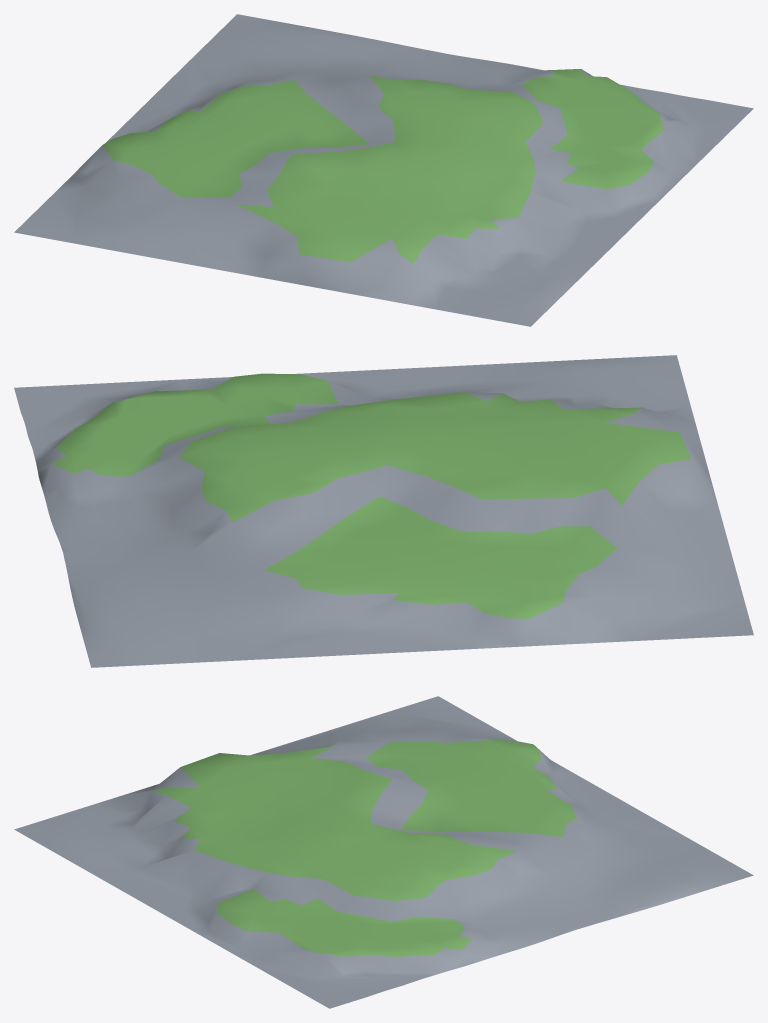
File: SM_Cliffs_17.obj
3 views of the same model, one above another, from view 1: azimuth 30°, elevation 25°; view 2: azimuth 150°, elevation 25°; view 3: azimuth 270°, elevation 25° (orthographic). The views are drawn at different scales.
Visible parts, largest first — view 1: SM_Cliffs_17; view 2: SM_Cliffs_17; view 3: SM_Cliffs_17.
Boxes of the visible parts, x1,y1,x2,y2 form: SM_Cliffs_17: (14, 14, 753, 326); SM_Cliffs_17: (14, 355, 753, 667); SM_Cliffs_17: (14, 696, 753, 1008).
Bounding box in the file's own units: 15.23 × 0.7421 × 15.23.
1 material, 1 textured.
